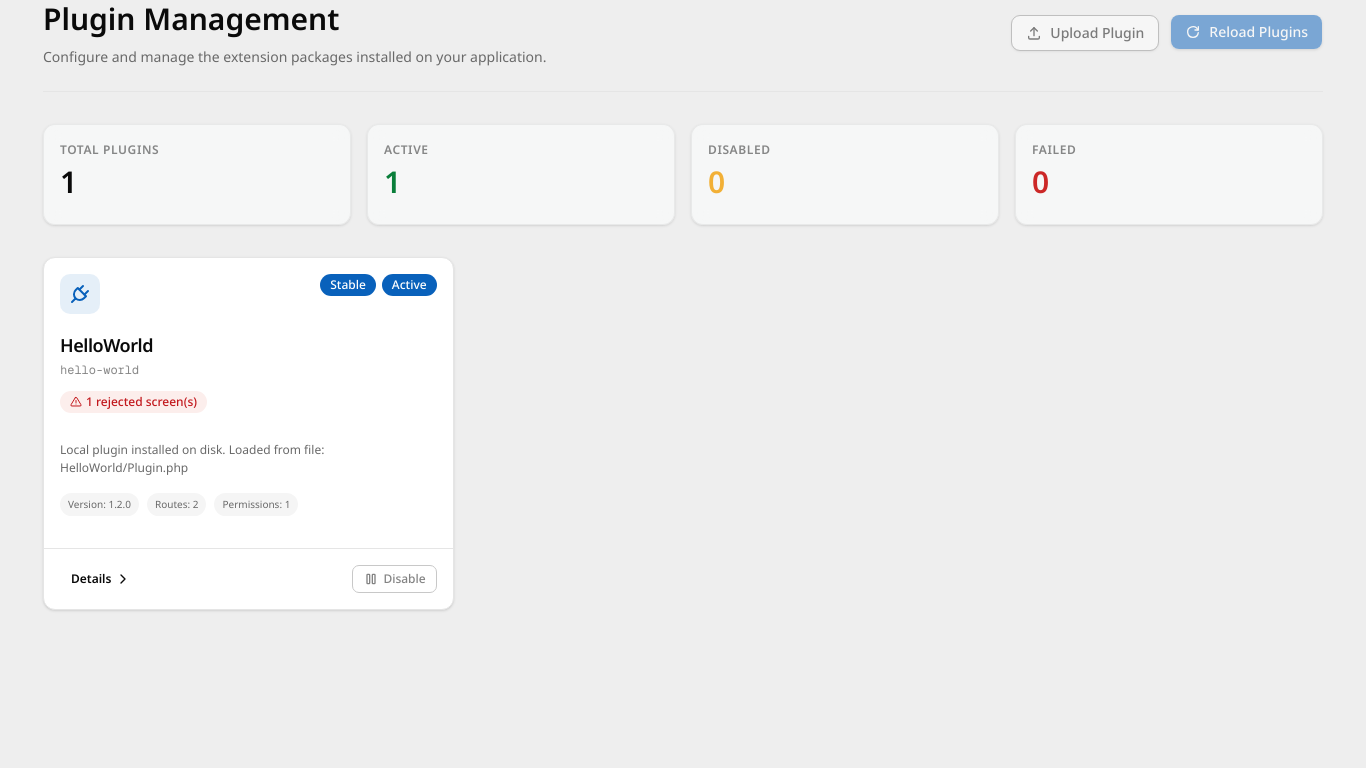
Test: PluginsPage rejected screens (#953) › names the screen and the exact reason in the detail panel
Expected: the text "HelloWorld" is shown, [60, 333, 153, 357]
Click the button "Details" at coordinates (101, 578), box [60, 564, 142, 592]
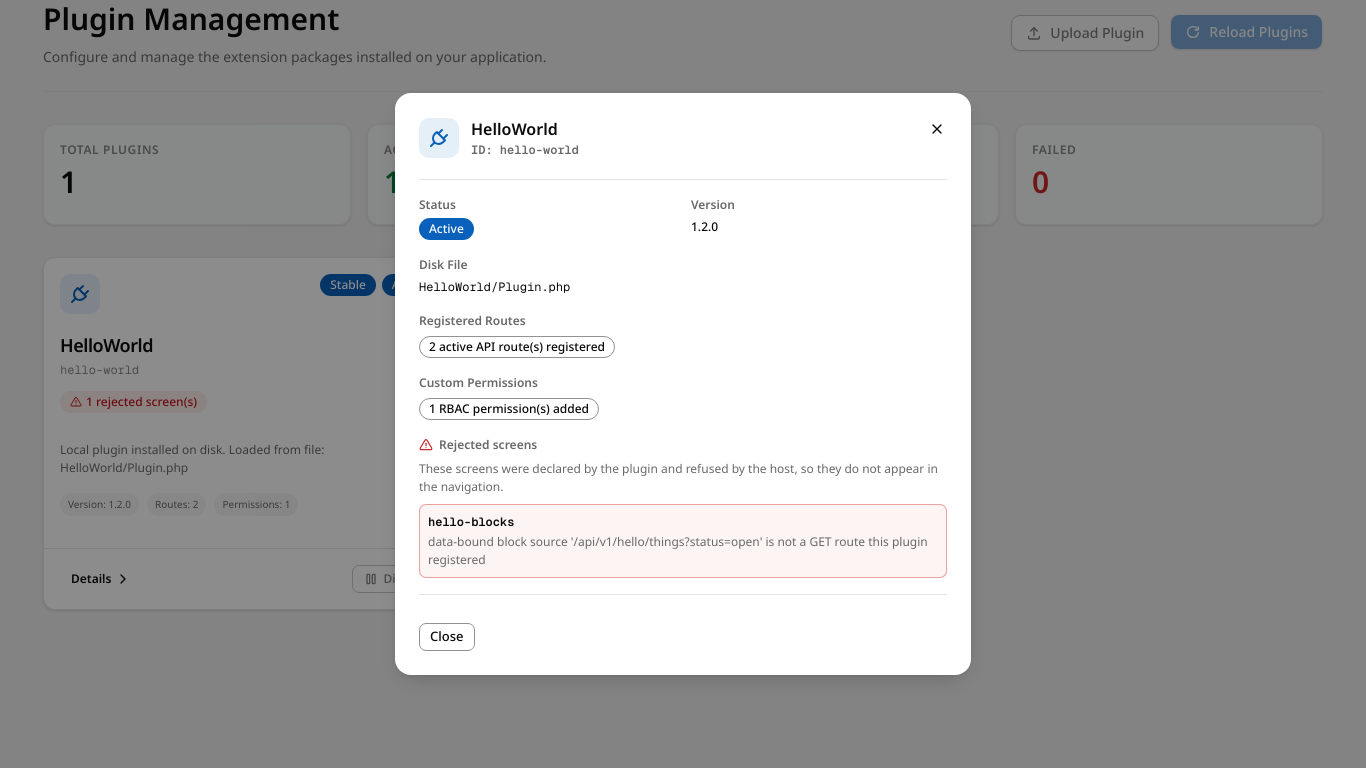
Expected: the heading "Rejected screens" is shown, [419, 436, 537, 453]
Expected: the text "hello-blocks" is shown, [428, 514, 514, 530]
Expected: the text "data-bound block source '/api/v1/hello/things?status=open' is not a GET route this plugin registered" is shown, [428, 533, 928, 568]
